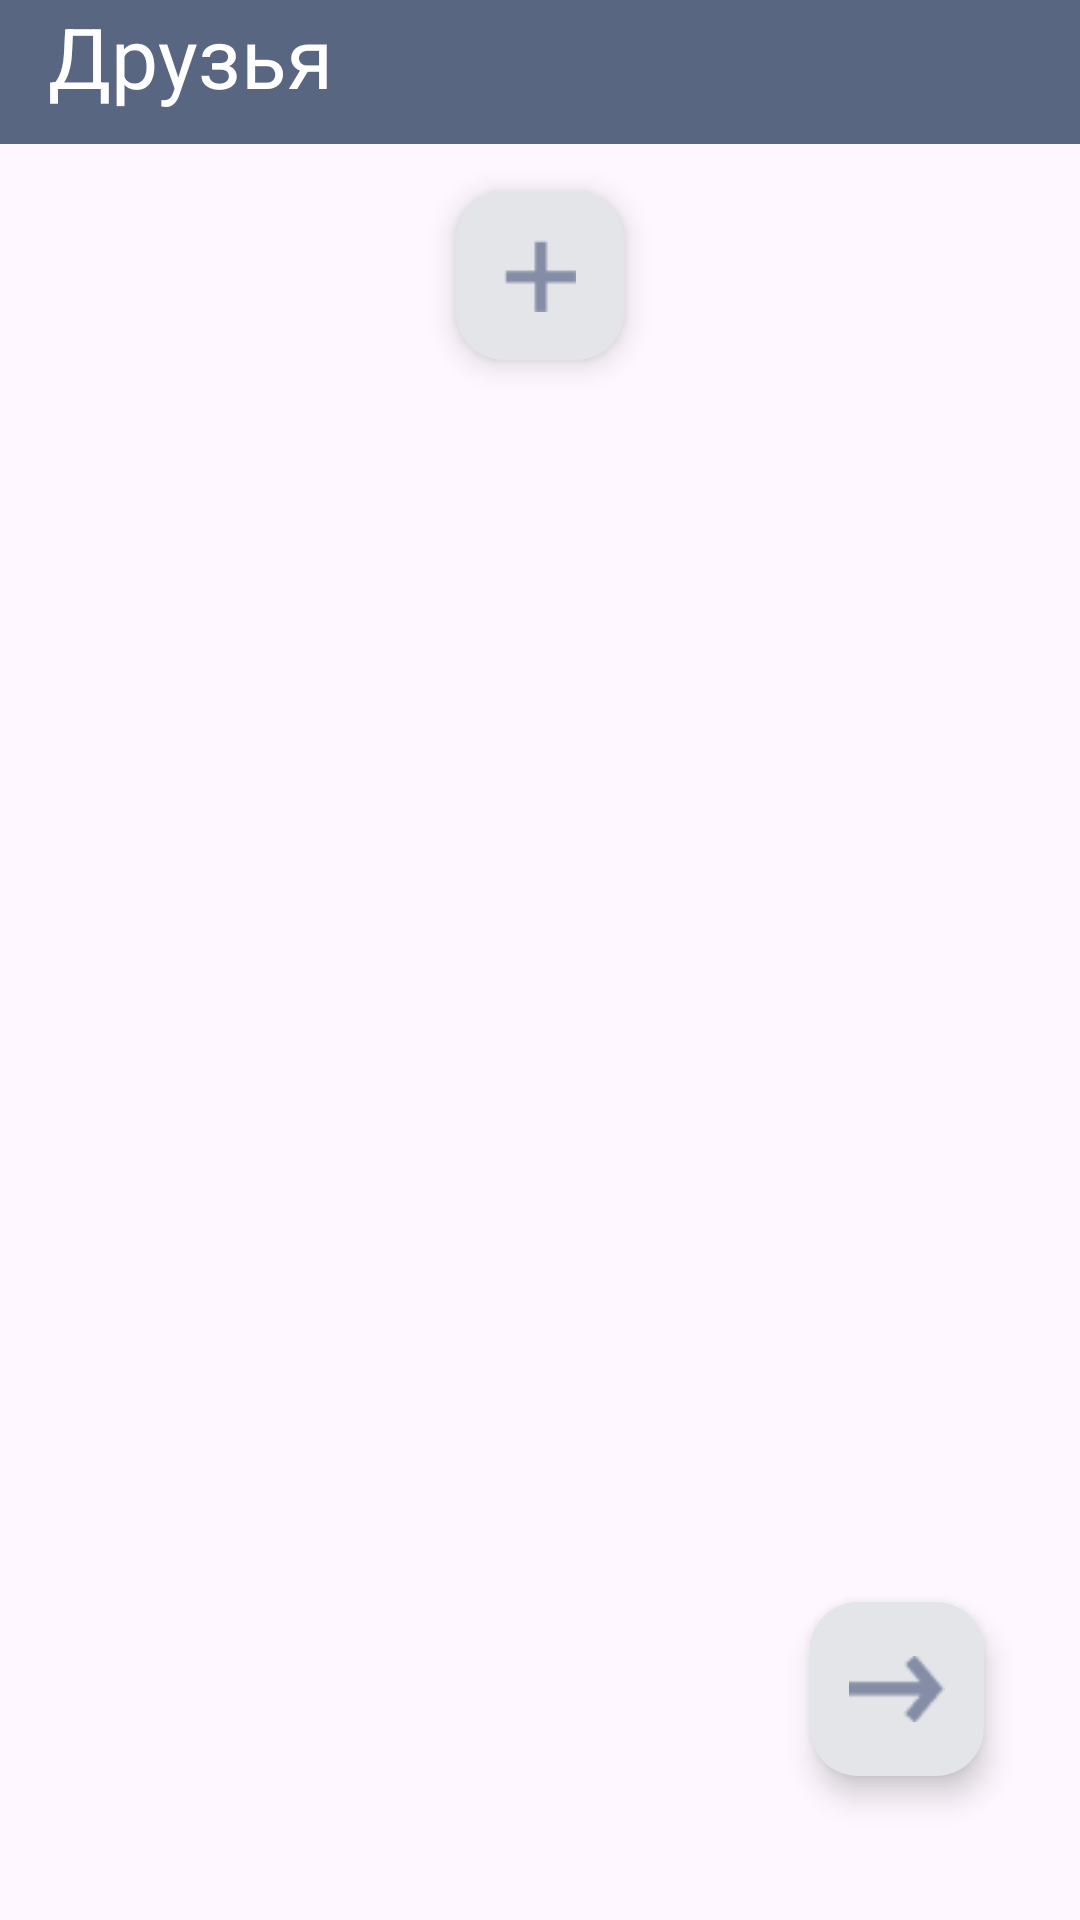

Icon bounding boxes for this 1080x1920 phone screenshot, format (x1, y1, x2, y2):
add: (505, 241, 576, 312)
